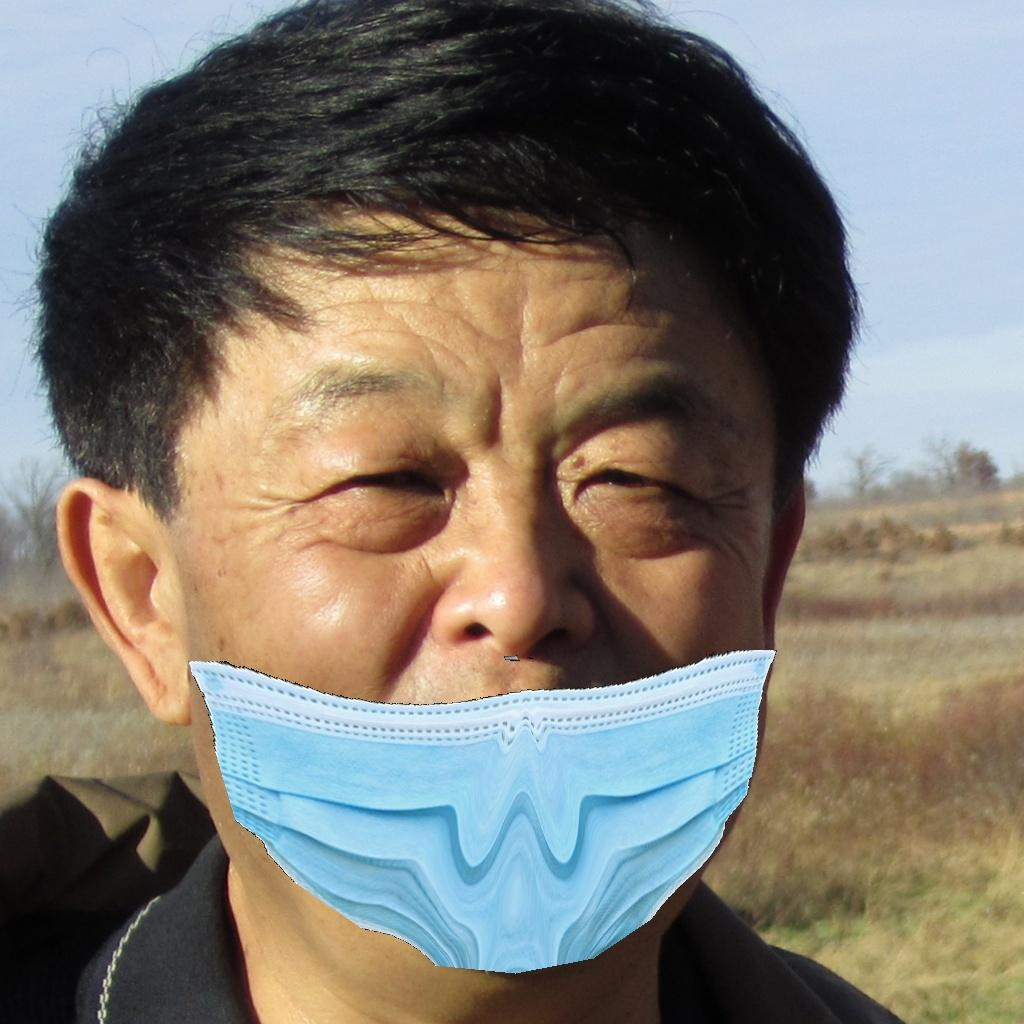Máscara Incorreta: (172, 315, 792, 949)
